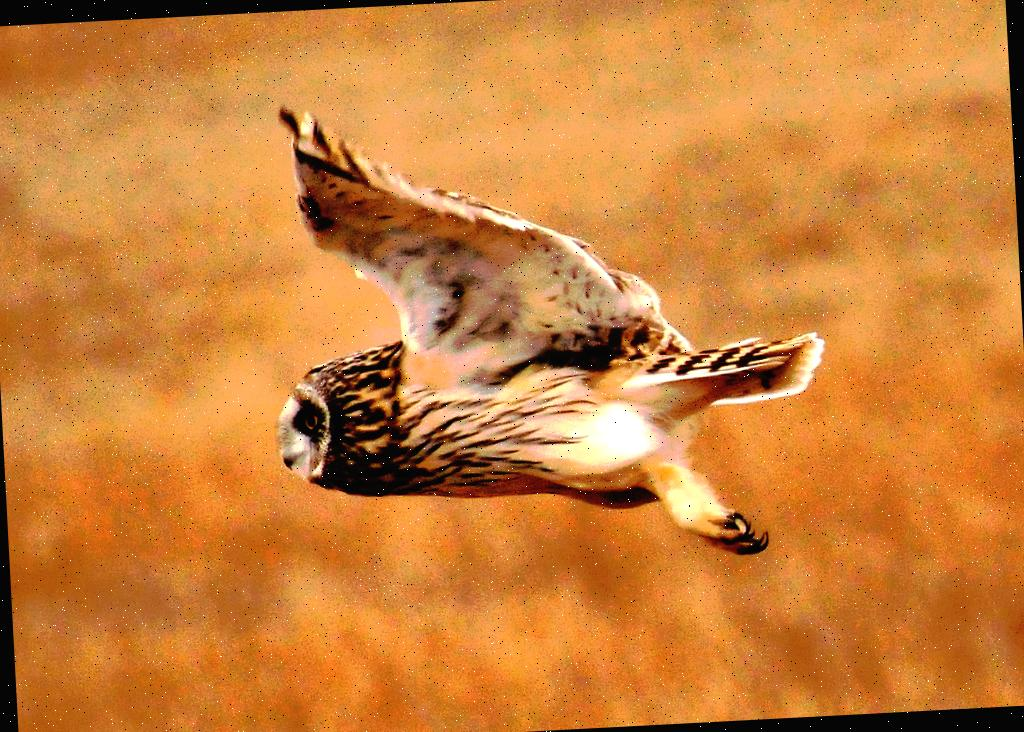Owl: (262, 82, 837, 579)
